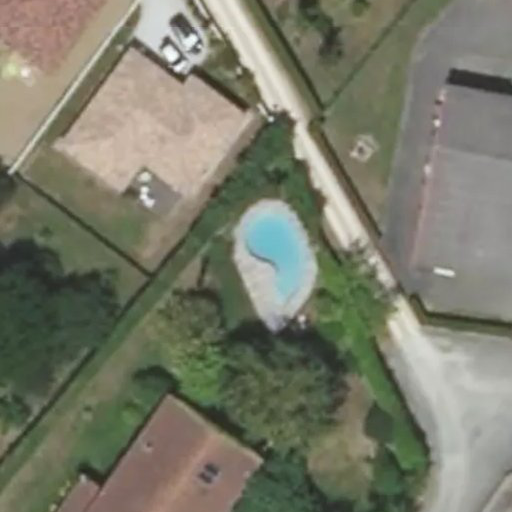pool: (222, 214, 291, 267)
